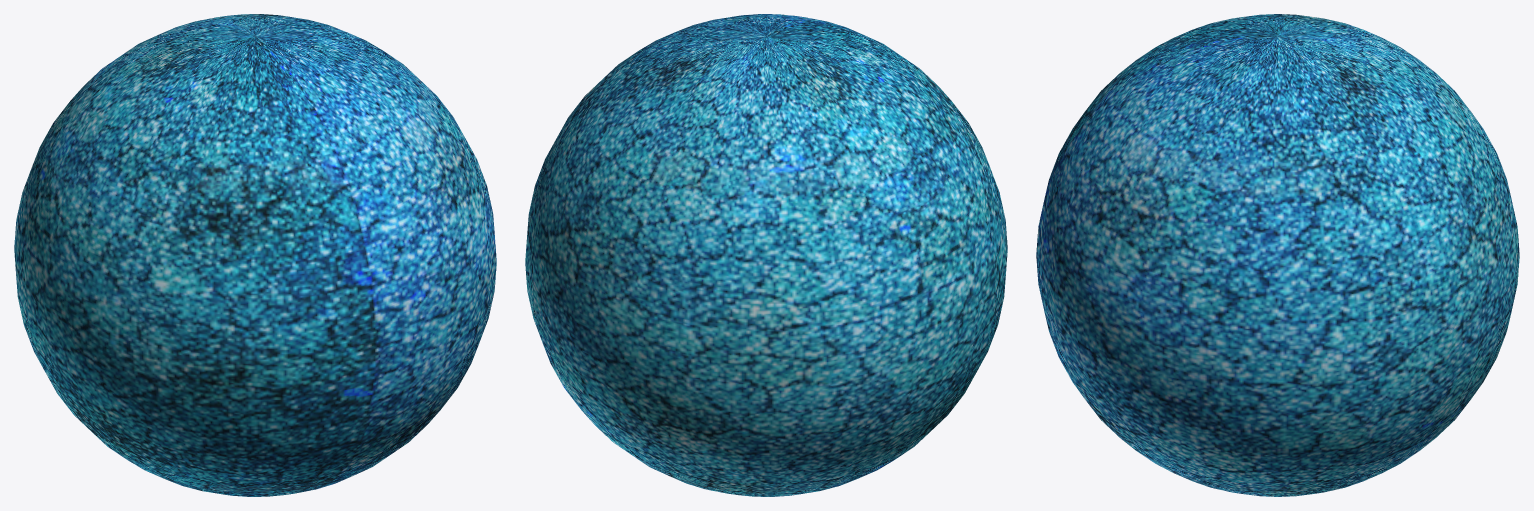
The model's file is Satillite.fbx.
3 renders of one model, left to right at view 1: azimuth 30°, elevation 25°; view 2: azimuth 150°, elevation 25°; view 3: azimuth 270°, elevation 25°, orthographic.
Parts seen in each view (by area): view 1: shield; view 2: shield; view 3: shield.
Boxes of the visible parts, x1,y1,x2,y2 form: shield: [14, 14, 496, 496]; shield: [525, 14, 1007, 496]; shield: [1036, 14, 1519, 496].
Bounding box in the file's own units: 308 × 308 × 308.
